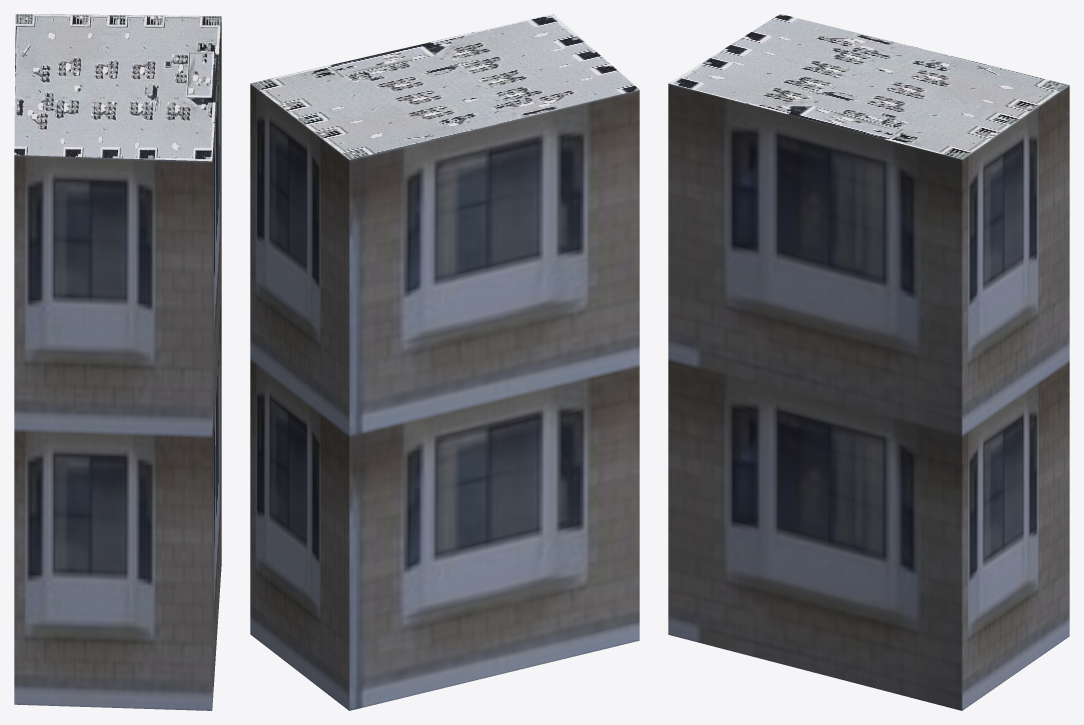
The model's file is ResTex__4859.fbx.
3 views of the same model, side by side, from view 1: azimuth 30°, elevation 25°; view 2: azimuth 150°, elevation 25°; view 3: azimuth 270°, elevation 25° (orthographic).
Visible parts, largest first — view 1: CityEngineMaterial_3_m, CityEngineMaterial_8_m; view 2: CityEngineMaterial_3_m, CityEngineMaterial_8_m; view 3: CityEngineMaterial_3_m, CityEngineMaterial_8_m.
Part boxes in pixels (x1,y1,x2,y2): CityEngineMaterial_3_m: (14, 17, 221, 710); CityEngineMaterial_8_m: (14, 14, 221, 161); CityEngineMaterial_3_m: (250, 83, 639, 710); CityEngineMaterial_8_m: (250, 14, 639, 159); CityEngineMaterial_3_m: (668, 83, 1069, 710); CityEngineMaterial_8_m: (668, 14, 1069, 159).
Bounding box in the file's own units: 3.4 × 6 × 3.96.
Materials: 2 (2 with a texture image).
